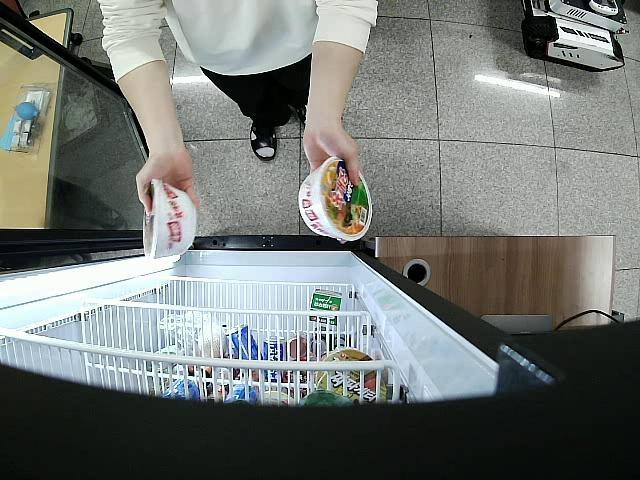09_yukGaeJang: (299, 156, 372, 240), (142, 178, 198, 260)
